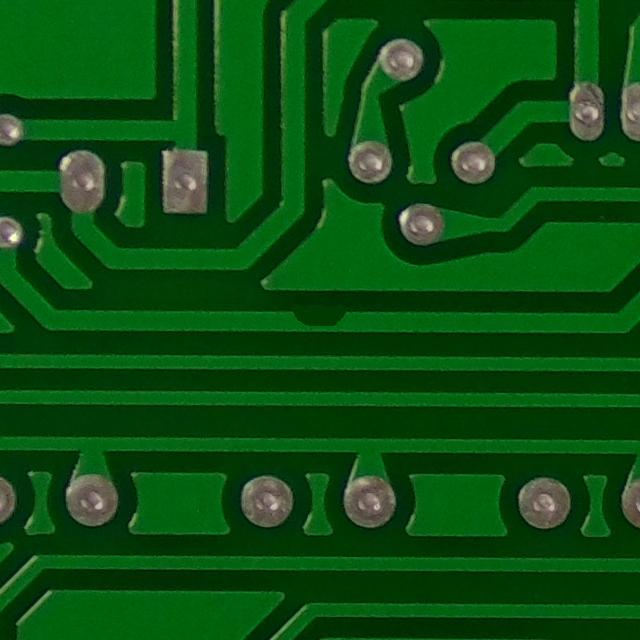mouse_bite: (281, 295, 359, 345)
